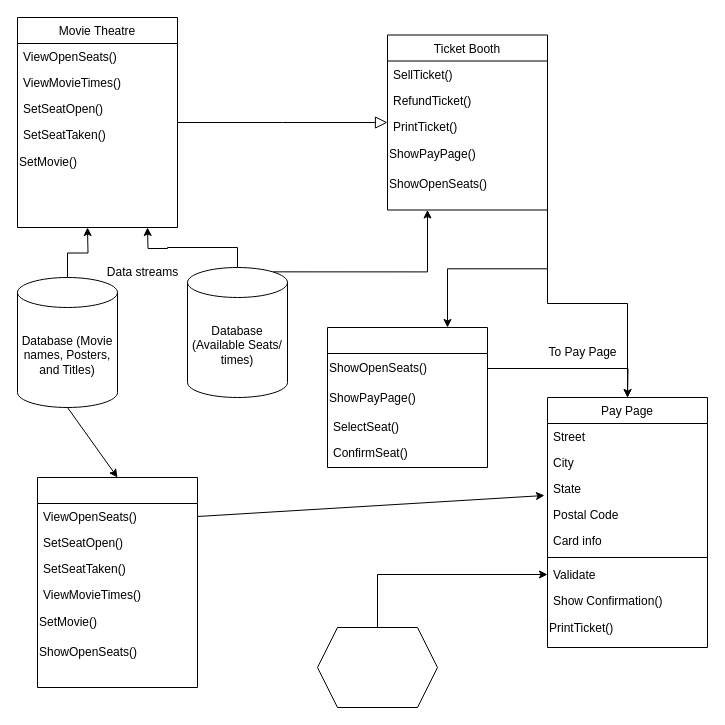
This 725x725 diagram has some shape labels left out. The shapes that lost their labels are listed below. From the top down, each one's box as (x1, y1, x2, y2) in pixels, then its label:
(326, 326, 488, 468): Seat Map
(36, 476, 198, 688): Theatre Website
(316, 626, 438, 708): Bank Info
